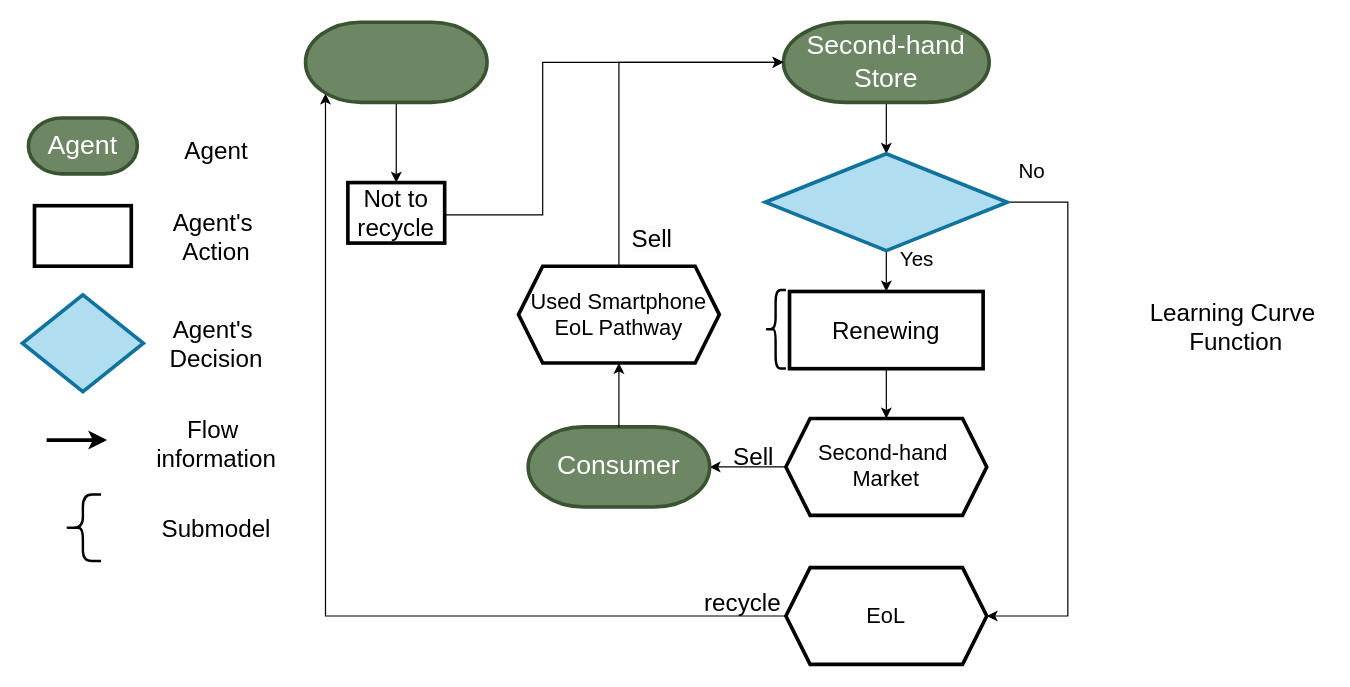
Some shapes in this 1350 by 687 pixel diagram are drawn without their labels. Each missing label, with the centre of its shape:
Action: point (82, 235)
Decision: point (82, 342)
Recycler: point (395, 62)
Repair&Sell?: point (886, 201)
